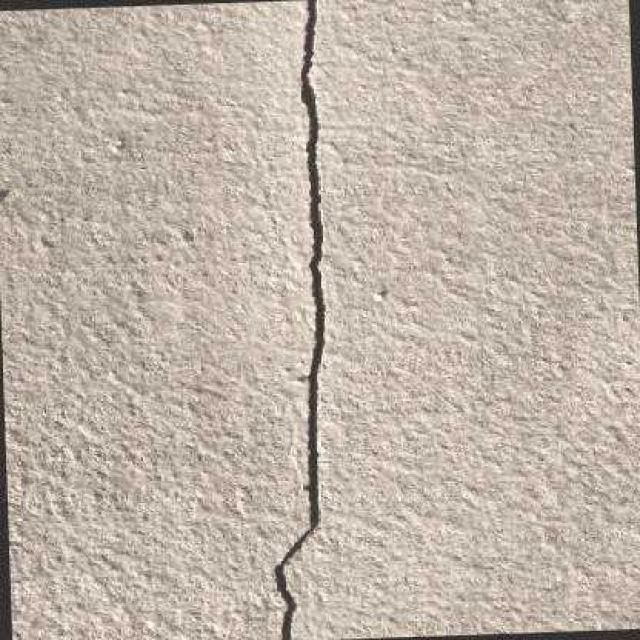D00: (272, 0, 324, 640)
